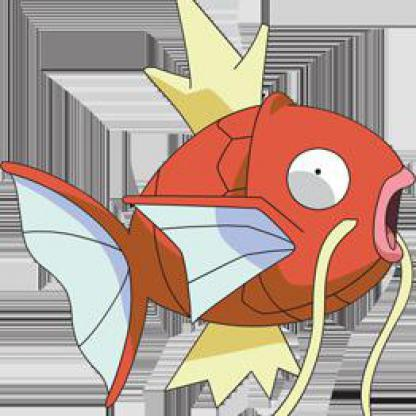Magikarp: (1, 7, 416, 416)
